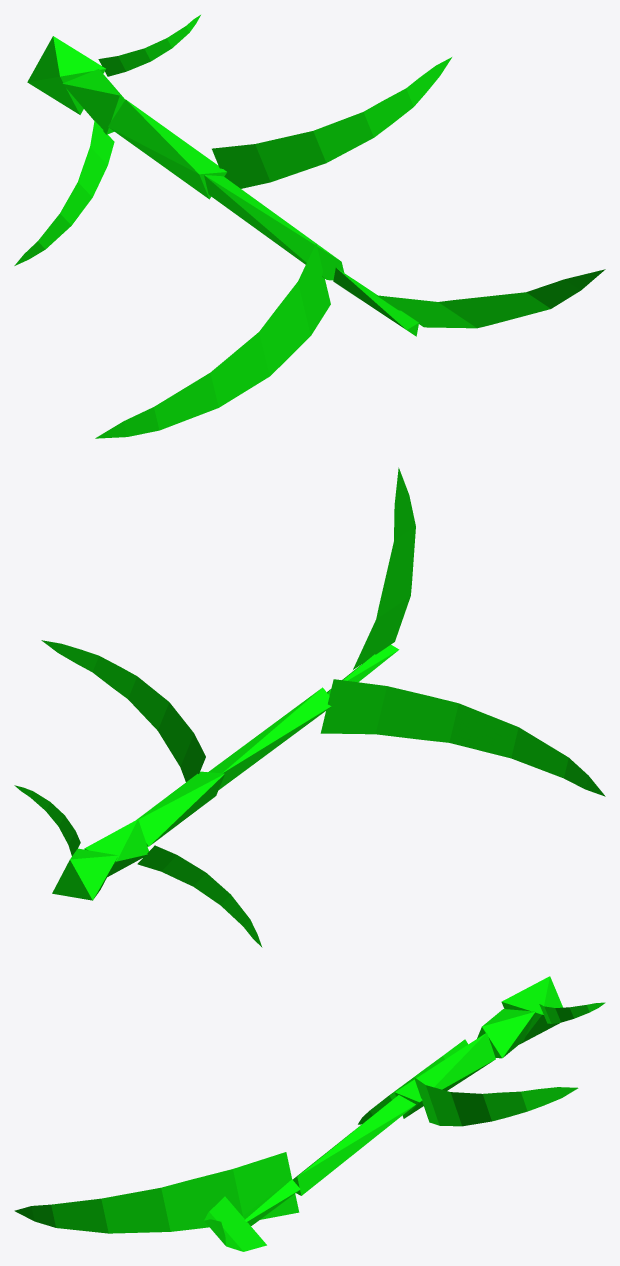
Rendered from usm_10_2.5D_2018-08-03_5.obj.
The picture shows the model from 3 angles, top to bottom: view 1: azimuth 30°, elevation 25°; view 2: azimuth 150°, elevation 25°; view 3: azimuth 330°, elevation 25°; orthographic projection. The views are drawn at different scales.
Visible parts, largest first — view 1: vid_10, vid_8, vid_12, vid_7, vid_9, vid_6, vid_3, vid_5, vid_4, vid_11; view 2: vid_10, vid_8, vid_12, vid_9, vid_7, vid_6, vid_3, vid_5, vid_4, vid_11; view 3: vid_10, vid_8, vid_9, vid_7, vid_12, vid_3, vid_5, vid_11, vid_4, vid_6.
Part boxes in pixels (x1,y1,x2,y2): vid_10: (95,243,330,438); vid_8: (212,57,451,188); vid_12: (376,269,605,328); vid_7: (108,99,226,199); vid_9: (204,175,344,280); vid_6: (14,120,114,265); vid_3: (27,36,105,114); vid_5: (62,69,125,134); vid_4: (98,15,200,76); vid_11: (333,268,418,336); vid_10: (320,679,605,796); vid_8: (41,640,205,781); vid_12: (353,467,415,669); vid_9: (208,687,331,789); vid_7: (137,771,224,846); vid_6: (137,845,262,947); vid_3: (52,848,118,900); vid_5: (84,819,148,876); vid_4: (14,785,80,855); vid_11: (327,645,399,695); vid_10: (14,1152,299,1233); vid_8: (414,1077,578,1126); vid_9: (292,1095,415,1195); vid_7: (395,1032,495,1118); vid_12: (204,1196,266,1251); vid_3: (501,976,562,1044); vid_5: (477,1009,535,1058); vid_11: (242,1179,300,1225); vid_4: (539,1002,605,1023); vid_6: (358,1039,468,1124).
Size of the model in its own units: 35.32 by 14.69 by 56.76.
